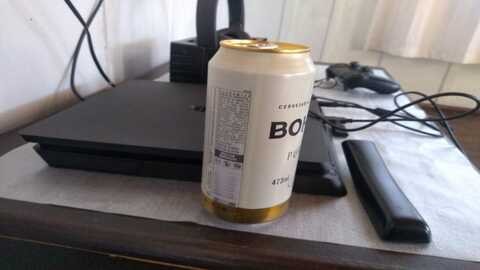bohemia: (203, 38, 317, 216)
